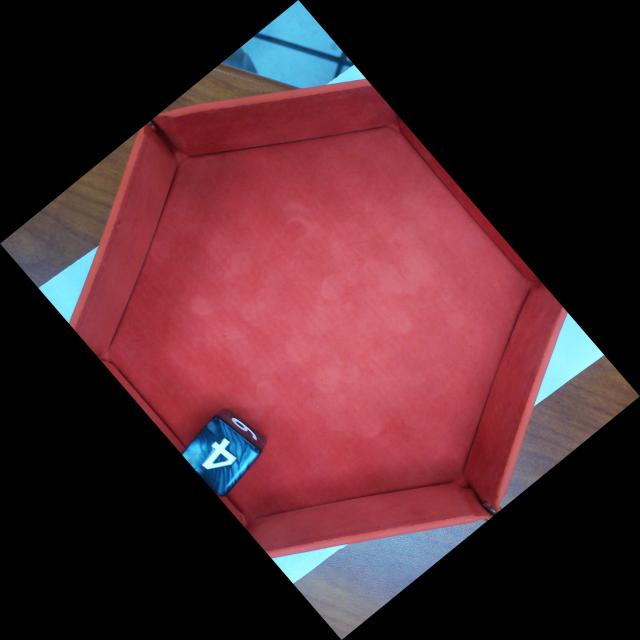dice: (174, 417, 263, 499)
